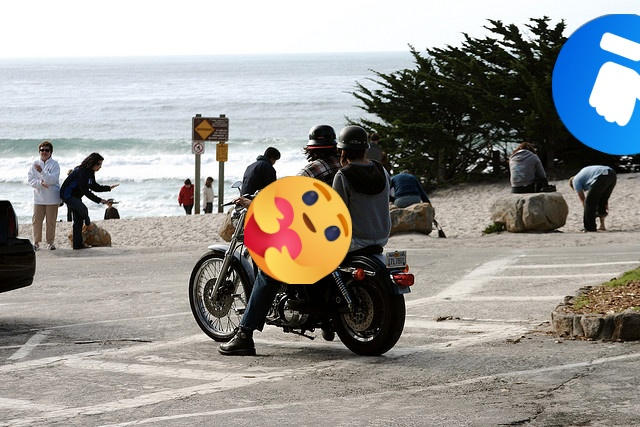care: (244, 176, 352, 284)
like: (552, 14, 640, 155)
